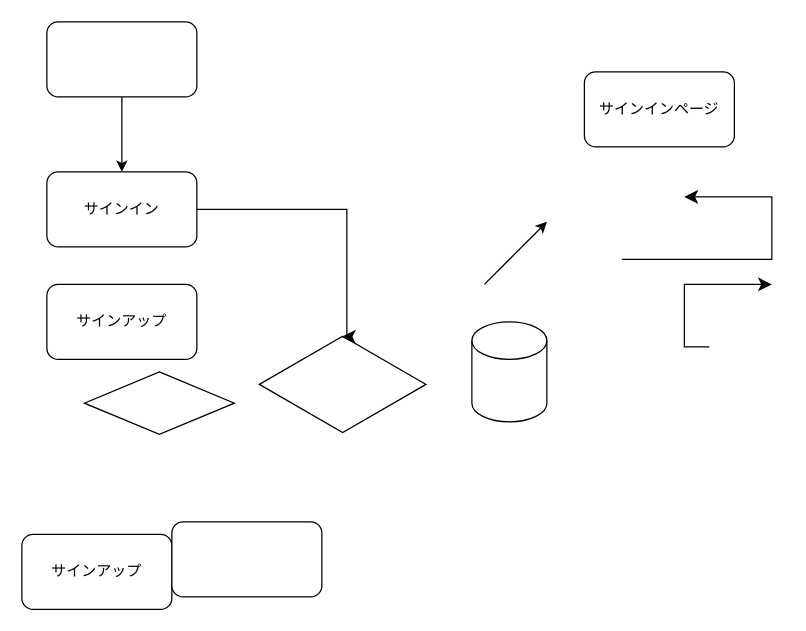
Some shapes in this 806 by 631 pixel diagram are drawn without their labels. The box of each missing label's shape, as (x1, y1, x2, y2) in pixels:
LP訪問: (46, 21, 197, 97)
ユーザー登録済？: (258, 333, 426, 434)
